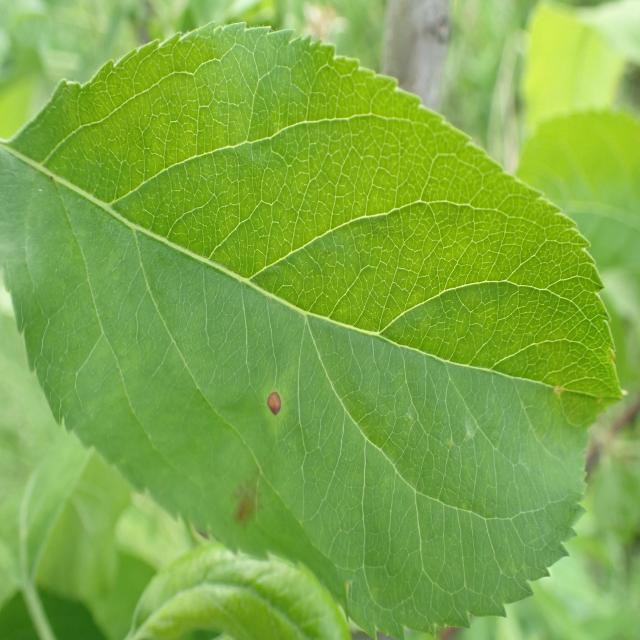Black Rot: (262, 382, 298, 444)
